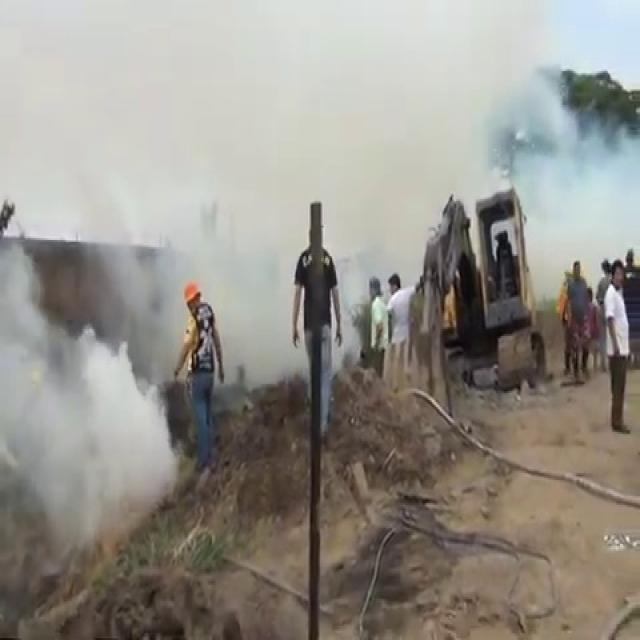Smoke: (144, 0, 640, 290), (0, 150, 176, 572)
